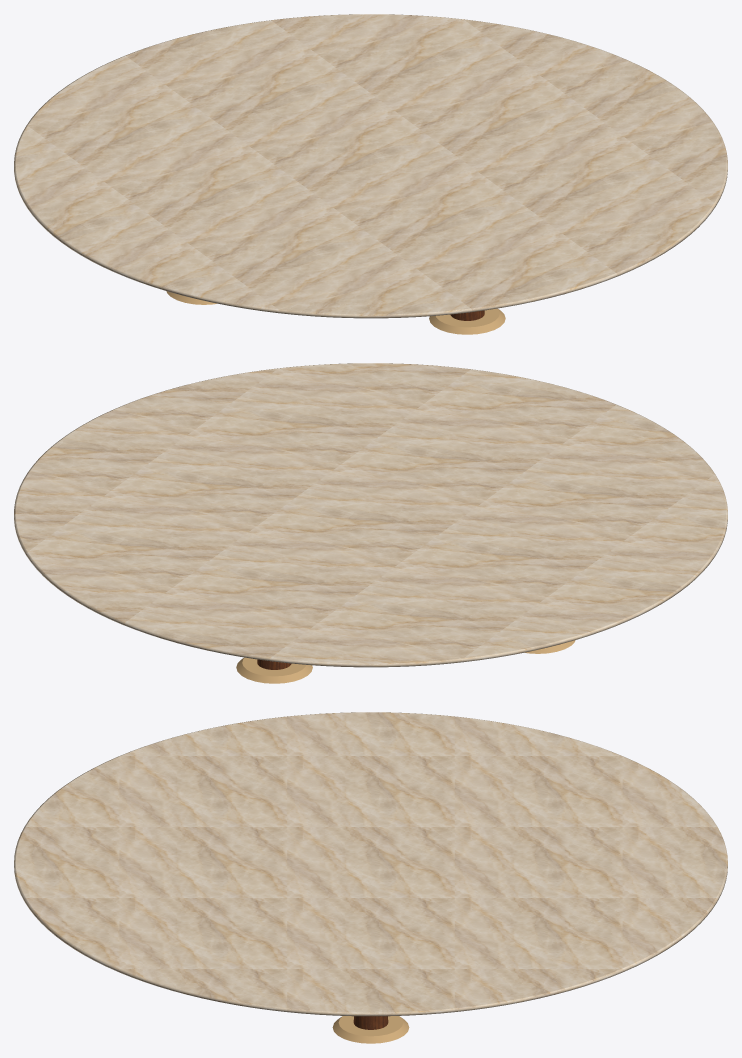
File: SaloonRoundTableFor24.glb
The picture shows the model from 3 angles, top to bottom: view 1: azimuth 30°, elevation 25°; view 2: azimuth 150°, elevation 25°; view 3: azimuth 270°, elevation 25°; orthographic projection.
Parts seen in each view (by area): view 1: Champagne edge.014; view 2: Champagne edge.014; view 3: Champagne edge.014.
Part boxes in pixels (x1=…): Champagne edge.014: x1=14, y1=14, x2=727, y2=334; Champagne edge.014: x1=14, y1=363, x2=727, y2=683; Champagne edge.014: x1=14, y1=712, x2=727, y2=1043.
Size of the model in its own units: 5.96 by 0.77 by 5.96.
Materials: 3 (2 with a texture image).
